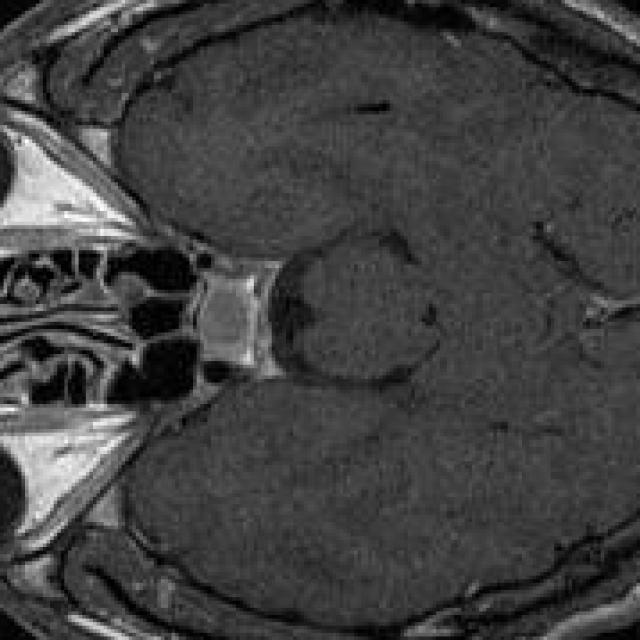pituitary: (197, 279, 257, 368)
